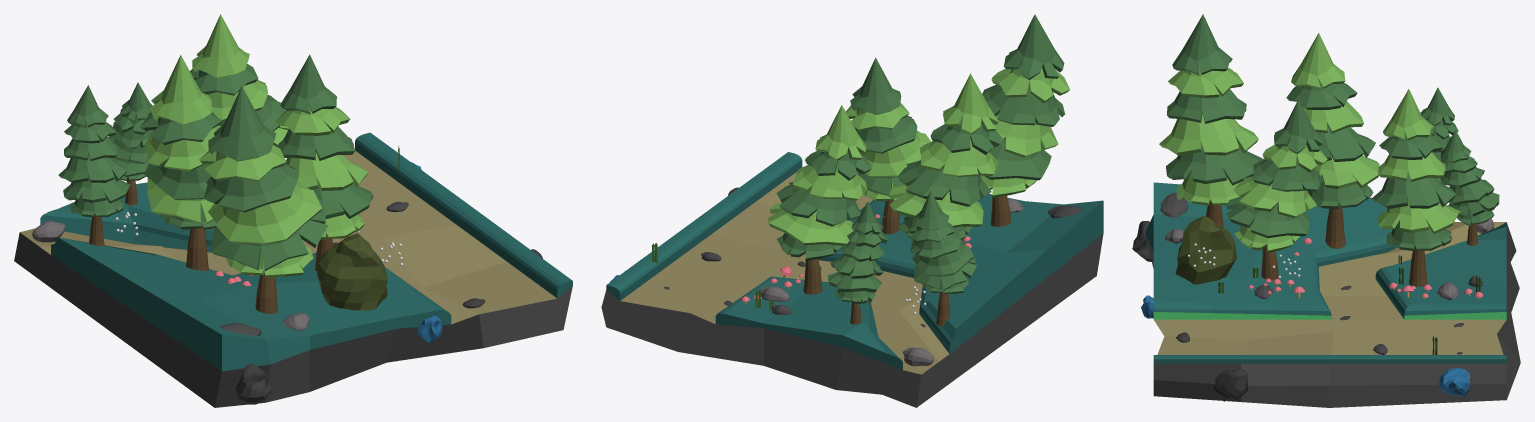
Rendered from low-poly-forest-trees-scene-ii-free.fbx.
3 views of the same model, side by side, from view 1: azimuth 30°, elevation 25°; view 2: azimuth 150°, elevation 25°; view 3: azimuth 270°, elevation 25° (orthographic). The views are drawn at different scales.
Parts seen in each view (by area): view 1: Plane.002, Cylinder.004, Cylinder.026, Sphere, Sphere.014, Sphere.005, Sphere.016; view 2: Plane.002, Cylinder.004, Cylinder.026, Sphere.005, Sphere.002; view 3: Plane.002, Cylinder.004, Sphere, Sphere.014, Cylinder.026, Sphere.016, Sphere.002, Sphere.005, Plane.004.
Part boxes in pixels (left/top/right/bottom): Plane.002: left=14, top=132, right=572, bottom=407; Cylinder.004: left=108, top=14, right=373, bottom=313; Cylinder.026: left=58, top=85, right=130, bottom=245; Sphere: left=317, top=233, right=387, bottom=310; Sphere.014: left=236, top=249, right=542, bottom=404; Sphere.005: left=32, top=220, right=309, bottom=330; Sphere.016: left=411, top=162, right=442, bottom=342; Plane.002: left=601, top=152, right=1103, bottom=407; Cylinder.004: left=768, top=14, right=1069, bottom=324; Cylinder.026: left=907, top=190, right=976, bottom=326; Sphere.005: left=760, top=198, right=1023, bottom=366; Sphere.002: left=772, top=205, right=1081, bottom=314; Plane.002: left=1145, top=182, right=1520, bottom=407; Cylinder.004: left=1159, top=14, right=1499, bottom=286; Sphere: left=1175, top=216, right=1236, bottom=284; Sphere.014: left=1132, top=221, right=1248, bottom=401; Cylinder.026: left=1420, top=87, right=1458, bottom=183; Sphere.016: left=1141, top=295, right=1470, bottom=396; Sphere.002: left=1160, top=192, right=1482, bottom=298; Sphere.005: left=1165, top=218, right=1494, bottom=299; Plane.004: left=1218, top=255, right=1480, bottom=354.
Size of the model in its own units: 859 by 651 by 880.
